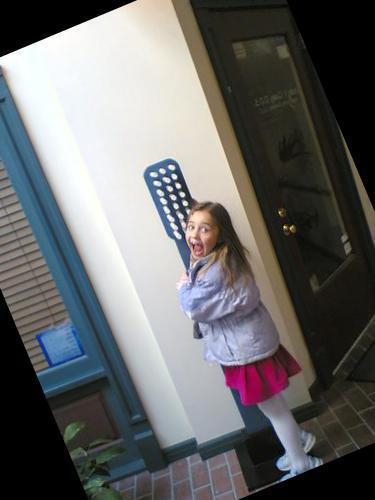Matera: (59, 411, 150, 500)
